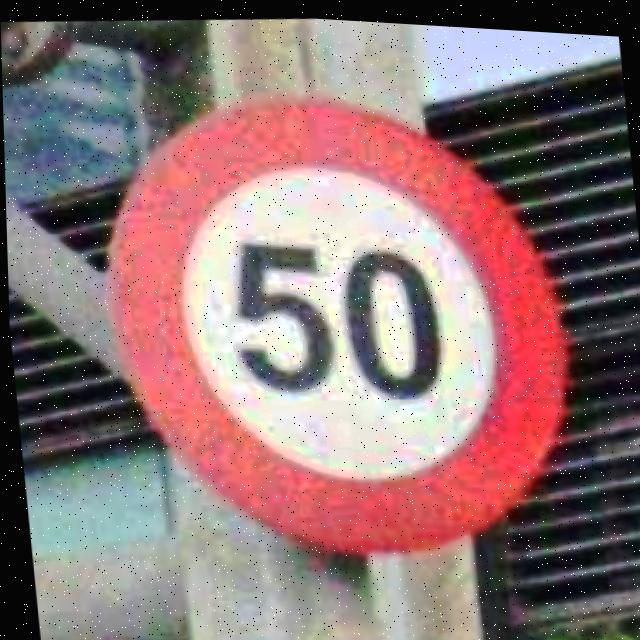max50: (81, 59, 588, 578)
